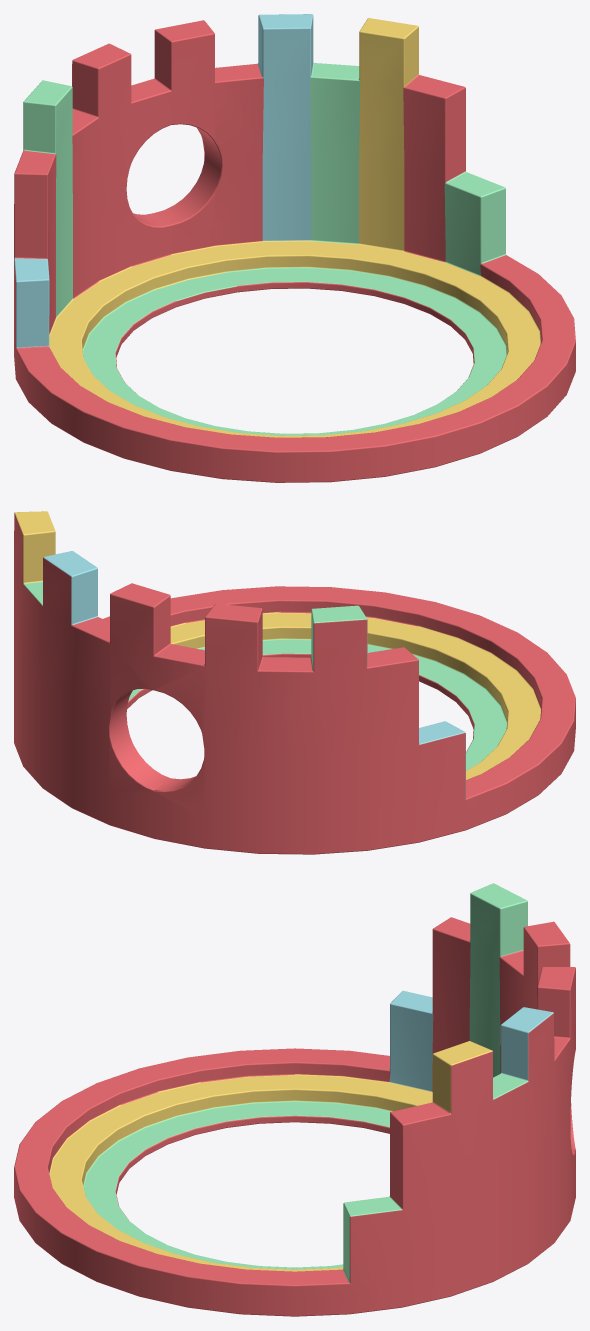
File: stadium.glb
3 views of the same model, one above another, from view 1: azimuth 30°, elevation 25°; view 2: azimuth 150°, elevation 25°; view 3: azimuth 270°, elevation 25° (orthographic).
Parts seen in each view (by area): view 1: Stadium; view 2: Stadium; view 3: Stadium.
Boxes of the visible parts, x1,y1,x2,y2 form: Stadium: [14, 14, 575, 482]; Stadium: [14, 511, 575, 854]; Stadium: [14, 883, 575, 1316].
Size of the model in its own units: 8.69 by 3.96 by 8.69.
